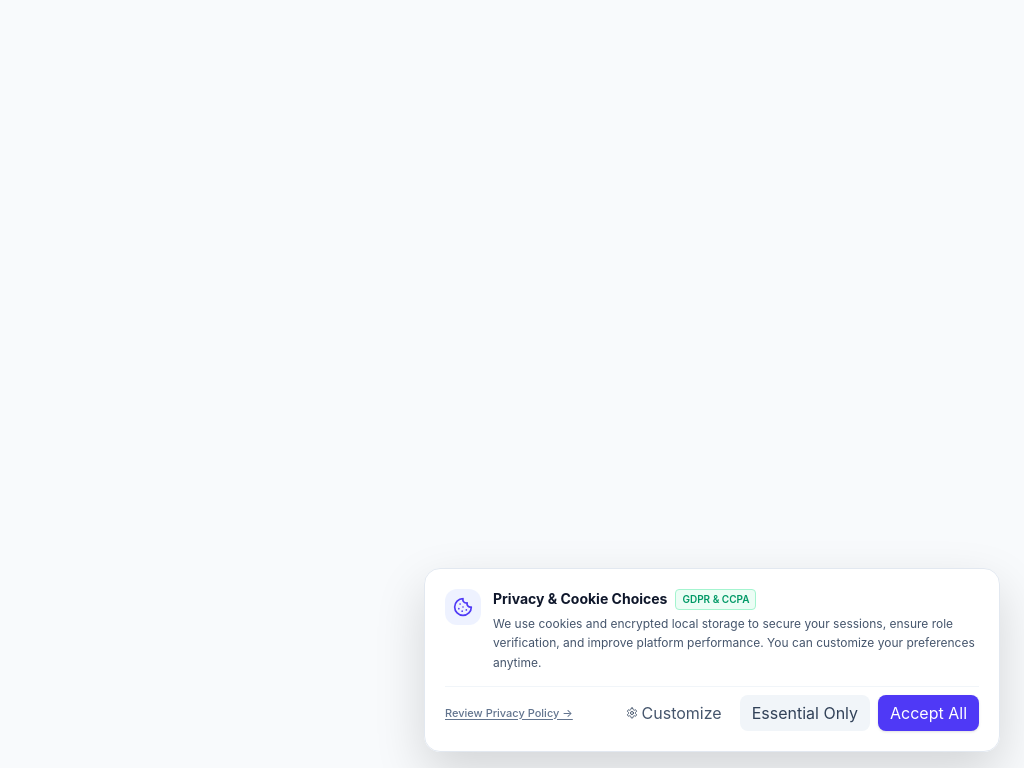
Scenario: CookieConsentBanner › writes consent choices to the cookie on Accept All
The image size is (1024, 768).
Click the button "Accept All" at (928, 713), box [878,695,979,731]
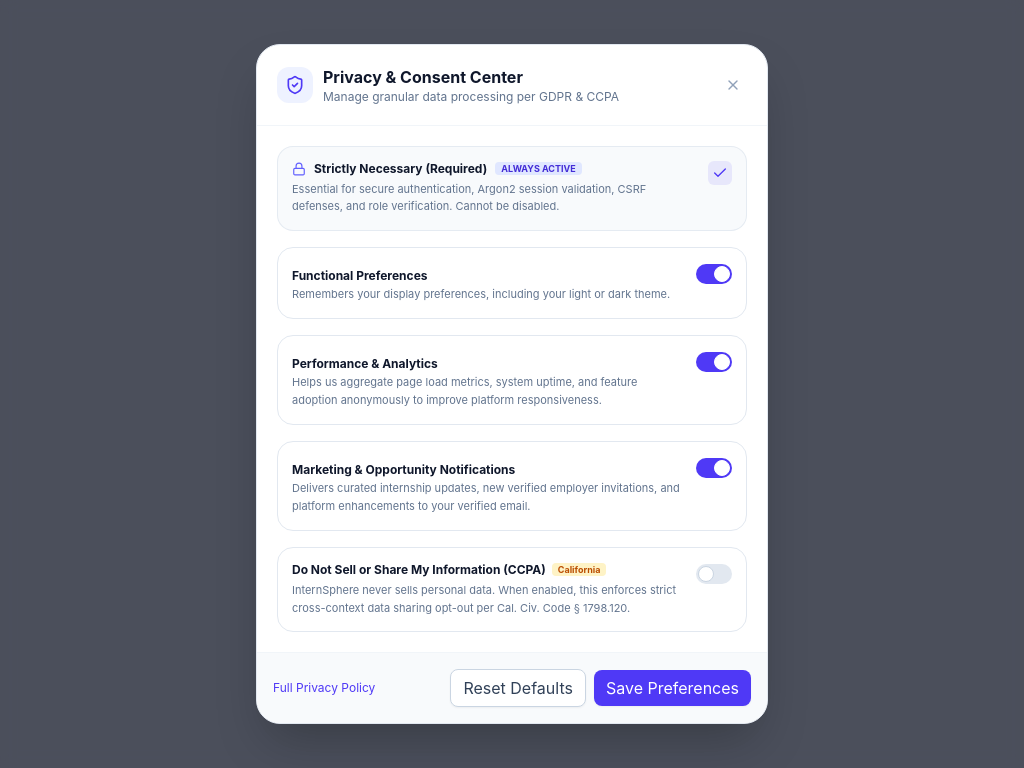
Expected: the checkbox named "Functional Preferences" is checked, [696,264,732,284]
